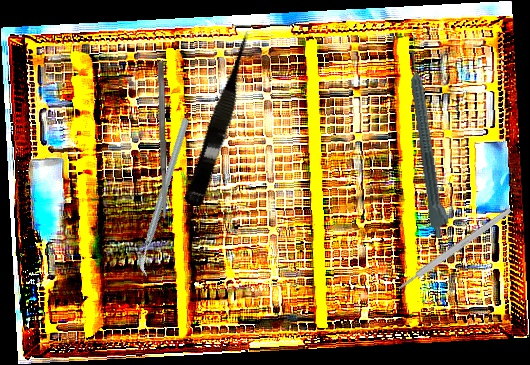Chopper: (89, 117, 241, 279)
Handpiece: (405, 48, 454, 240)
Micro Scissor: (182, 28, 263, 210)
Scalpel Handle: (396, 206, 513, 292)
Spatula Surgical: (157, 60, 168, 220)
